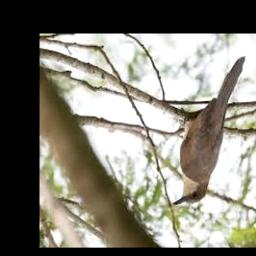Cuckoo: (173, 57, 245, 205)
